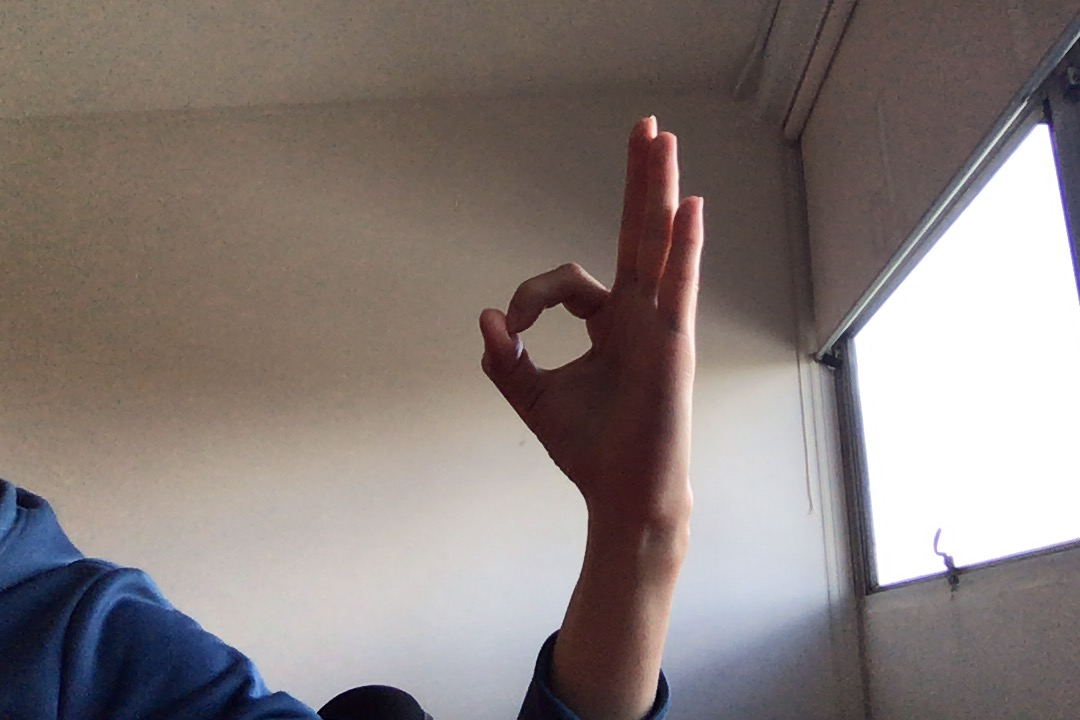oksign: (476, 108, 711, 526)
